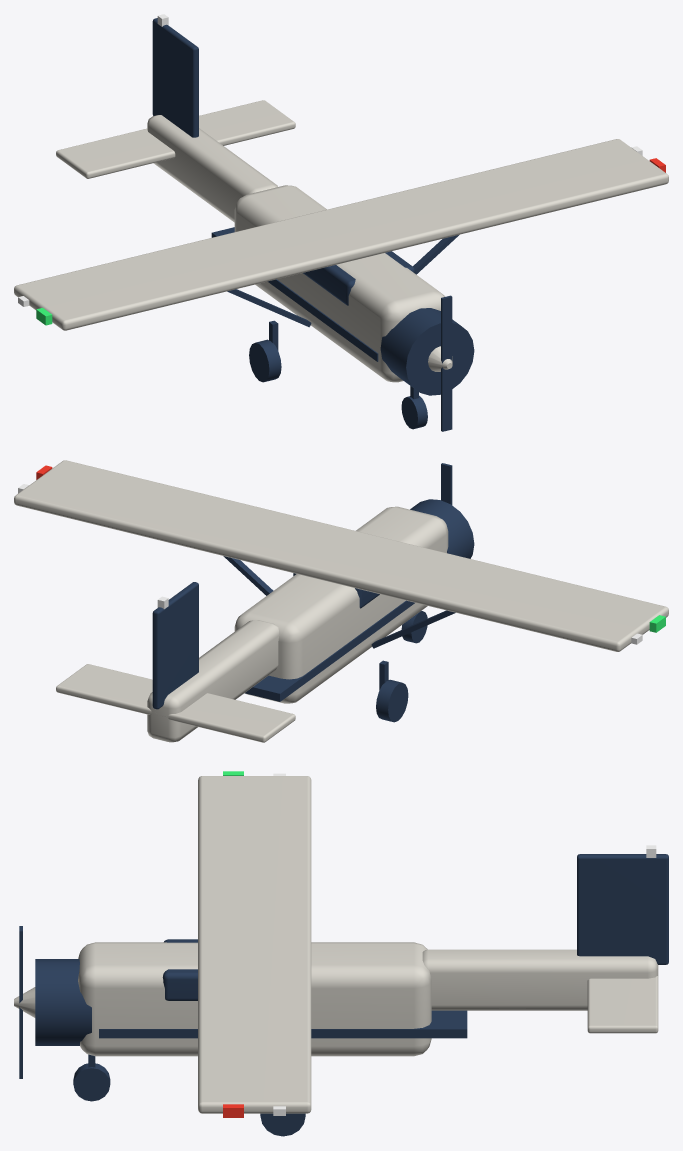
3 views of the same model, one above another, from view 1: azimuth 30°, elevation 25°; view 2: azimuth 150°, elevation 25°; view 3: azimuth 270°, elevation 25° (orthographic). The views are drawn at different scales.
Parts seen in each view (by area): view 1: fuselage, cowling, blade; view 2: fuselage, cowling, blade; view 3: fuselage, cowling, blade.
Boxes of the visible parts, bbox=[...] form: fuselage: bbox=[14, 100, 668, 382]; cowling: bbox=[152, 18, 474, 429]; blade: bbox=[441, 295, 452, 431]; fuselage: bbox=[14, 460, 668, 742]; cowling: bbox=[152, 499, 474, 722]; blade: bbox=[441, 463, 452, 504]; fuselage: bbox=[14, 776, 658, 1113]; cowling: bbox=[35, 854, 668, 1136]; blade: bbox=[19, 926, 22, 1078].
Bounding box in the file's own units: 11.24 × 3.92 × 9.25.
